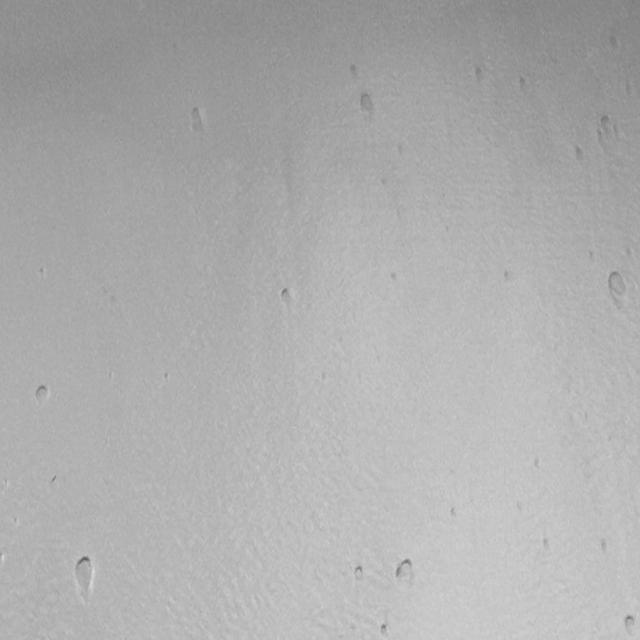pin holes: (70, 554, 96, 600), (604, 271, 632, 311), (391, 555, 417, 587), (184, 107, 209, 140), (274, 282, 297, 312), (596, 115, 618, 146), (355, 90, 377, 119), (32, 383, 52, 409), (620, 612, 638, 640), (351, 563, 371, 587), (470, 66, 490, 90), (570, 143, 588, 167), (388, 266, 400, 292), (394, 136, 406, 162), (540, 535, 554, 556), (500, 264, 514, 285), (347, 61, 361, 80), (516, 76, 530, 94), (597, 538, 610, 557), (378, 622, 392, 638), (38, 264, 50, 282), (447, 505, 460, 521), (49, 473, 61, 490)
